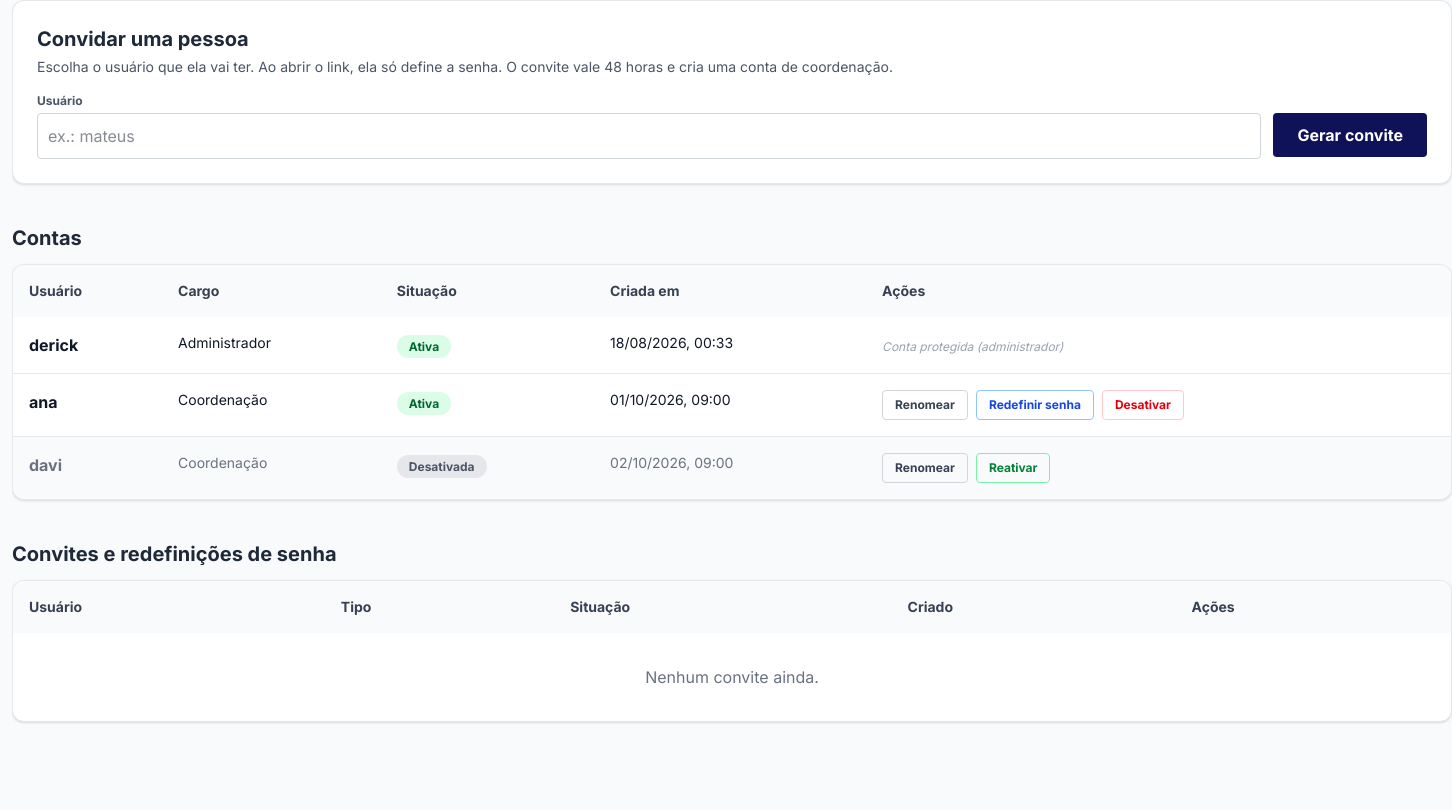
Scenario: renomear › se o servidor recusar, o motivo aparece na linha e o campo continua aberto com o que foi digitado
Click the button "Renomear" in the row of "ana" at coordinates (925, 405), box [882,390,968,420]
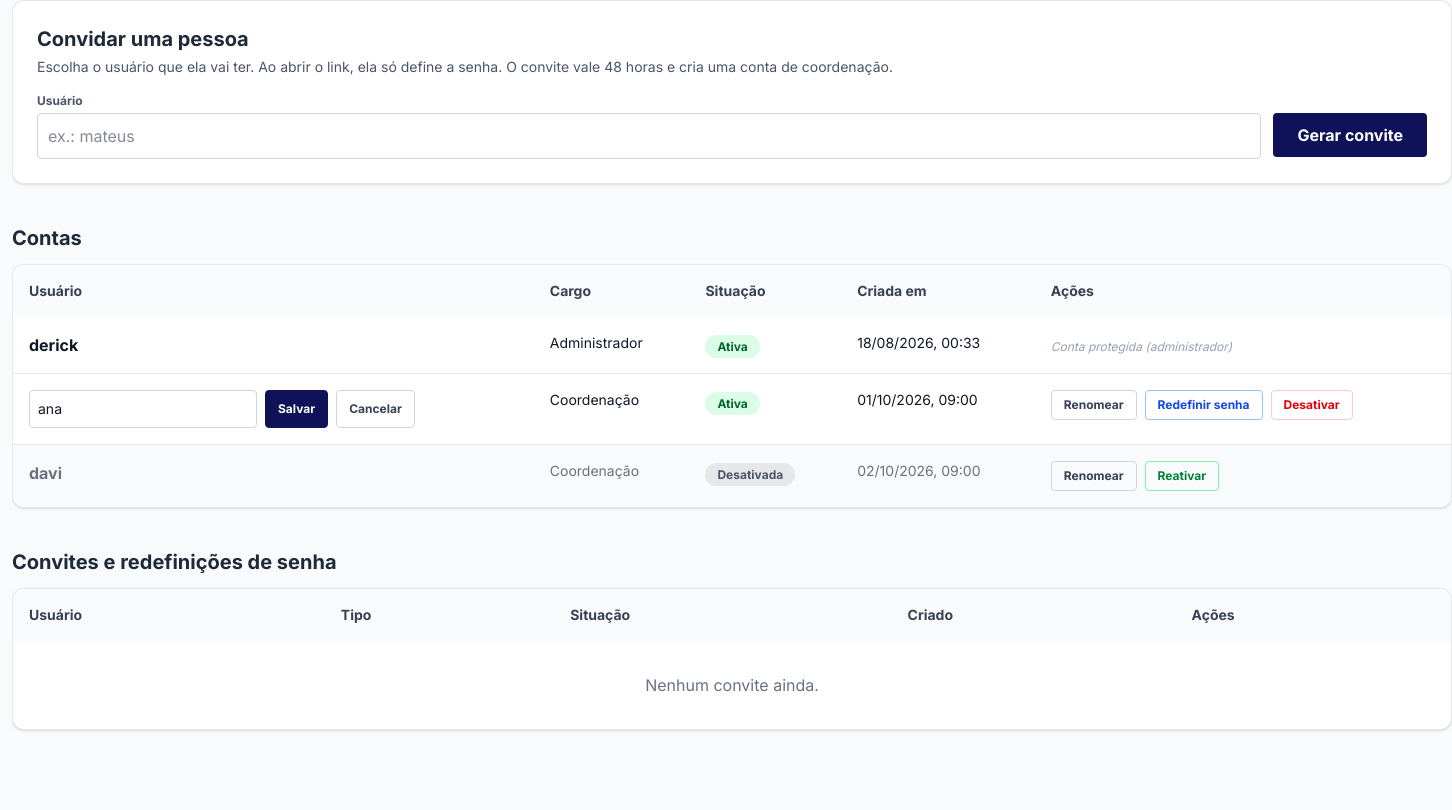
Replace the text in the field named "Novo nome de ana" with "davi" at coordinates (143, 409), box [29,390,257,428]
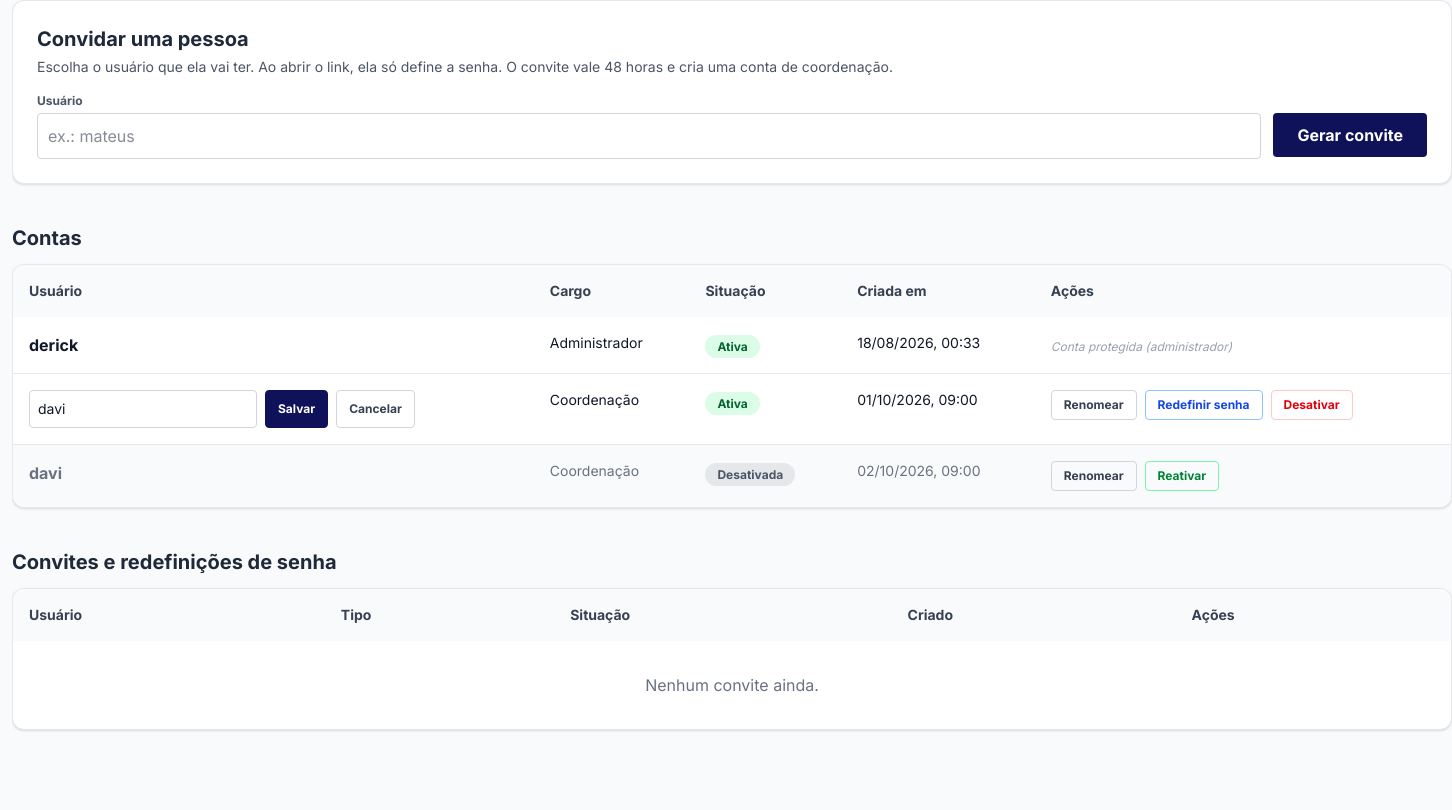
Click the button "Salvar" at coordinates (297, 409), box [265,390,328,428]
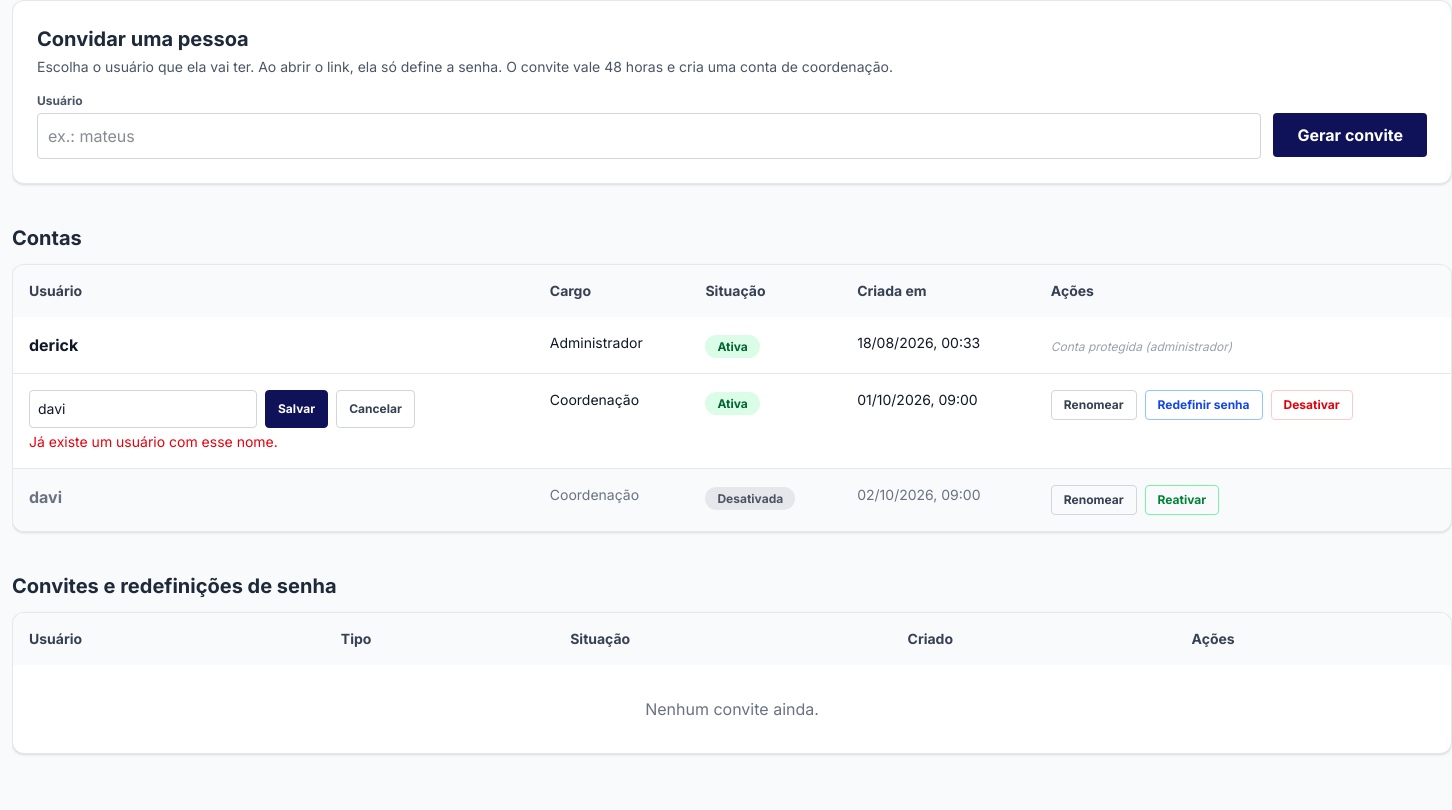
Expected: the text "Já existe um usuário com esse nome." is shown, [29,433,278,450]
